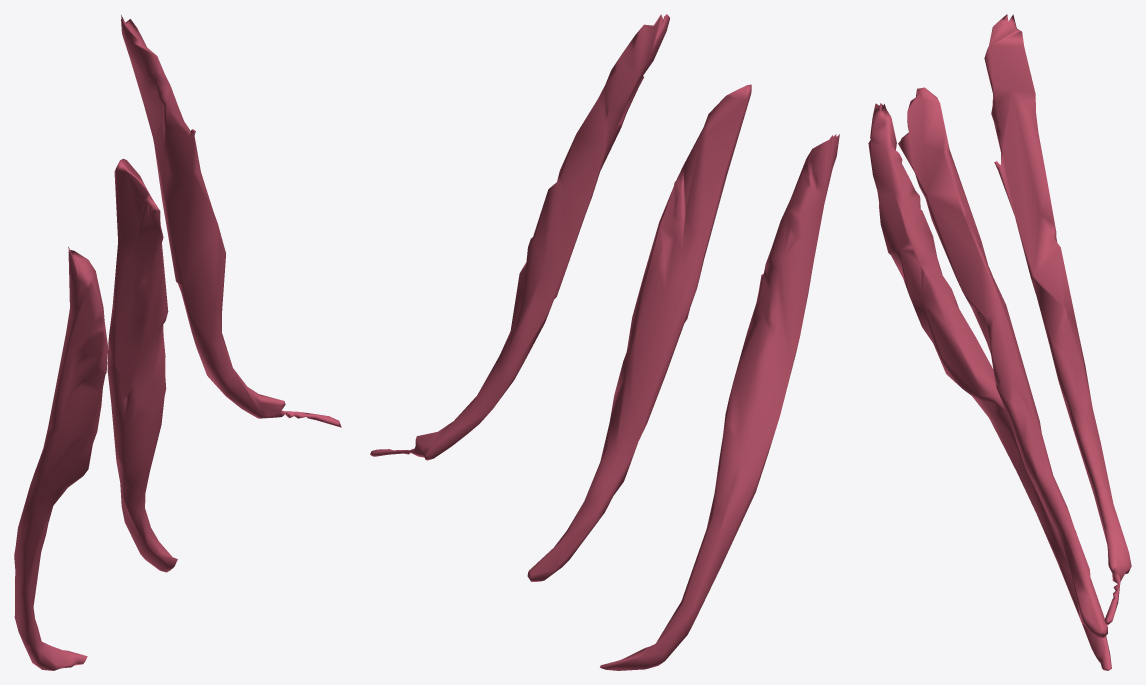
3 renders of one model, left to right at view 1: azimuth 30°, elevation 25°; view 2: azimuth 150°, elevation 25°; view 3: azimuth 270°, elevation 25°, orthographic. The views are drawn at different scales.
Visible parts, largest first — view 1: 左侧骨间足底肌; view 2: 左侧骨间足底肌; view 3: 左侧骨间足底肌.
Boxes of the visible parts, box(x1,y1,x2,y2) form: 左侧骨间足底肌: box(14, 15, 341, 670); 左侧骨间足底肌: box(370, 14, 839, 670); 左侧骨间足底肌: box(868, 14, 1131, 670).
Bounding box in the file's own units: 0.0633 × 0.1058 × 0.0387.
